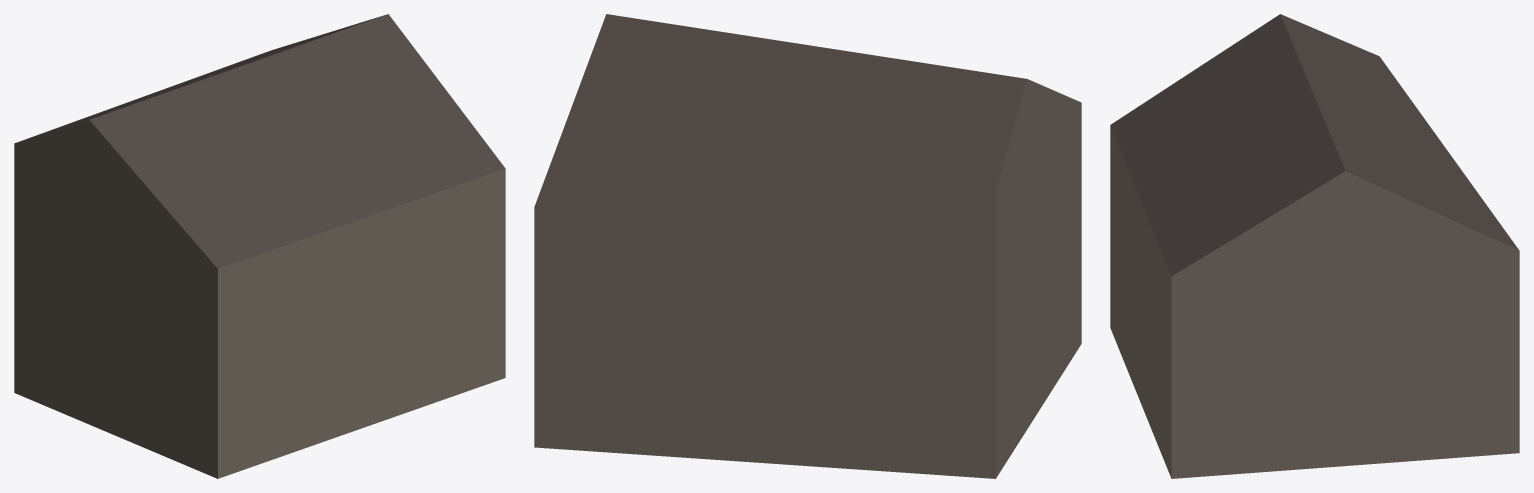
The picture shows the model from 3 angles, left to right: view 1: azimuth 30°, elevation 25°; view 2: azimuth 150°, elevation 25°; view 3: azimuth 270°, elevation 25°; orthographic projection. The views are drawn at different scales.
Visible parts, largest first — view 1: HP-w1365659940; view 2: HP-w1365659940; view 3: HP-w1365659940.
Part boxes in pixels (x1,y1,x2,y2): HP-w1365659940: [14, 14, 505, 478]; HP-w1365659940: [534, 14, 1081, 478]; HP-w1365659940: [1110, 14, 1519, 478].
Bounding box in the file's own units: 11.52 × 8.74 × 10.99.
